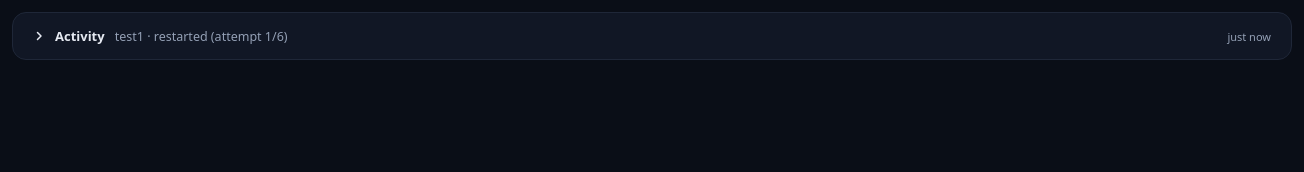
Scenario: EventsFeed › remembers being opened
Later steps or results of the test are not shown.
Click the button "Activity test1 · restarted (attempt 1/6) just now".
click(80, 36)  # box [13,13,1291,59]
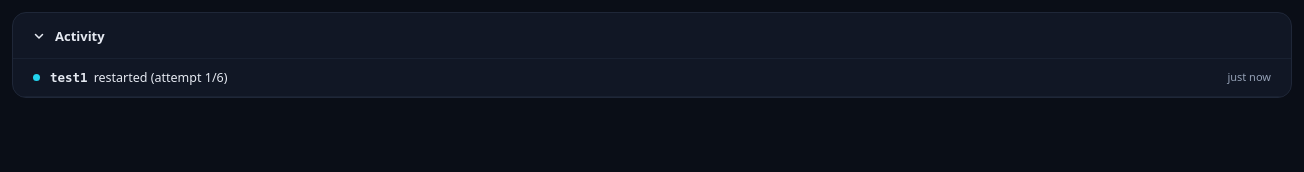
Result: the number of list items is 1 at [13,59,1291,97]
